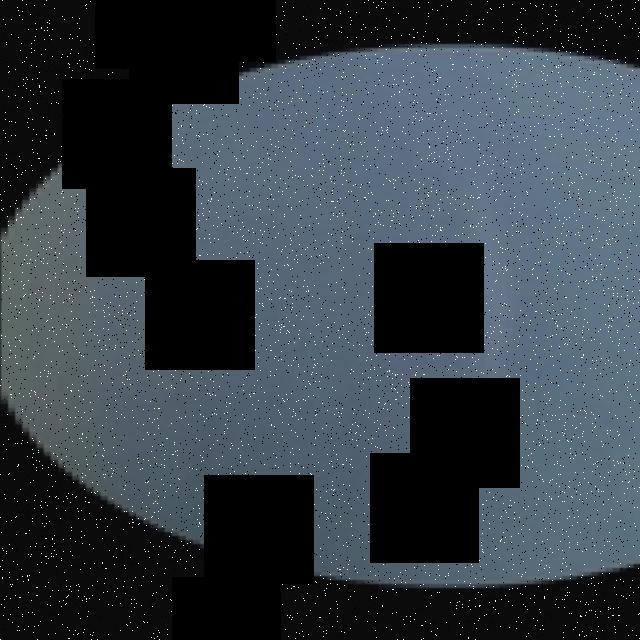Uranus: (0, 40, 640, 588)
